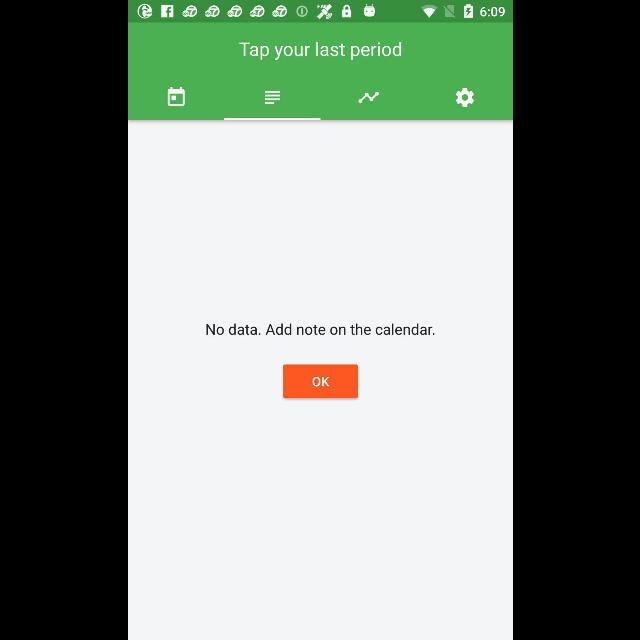icon: (455, 89, 473, 108), (168, 88, 185, 106), (358, 92, 378, 104), (264, 91, 280, 105)
text: (238, 41, 400, 60), (206, 323, 434, 335)
textbutton: (282, 364, 358, 398)
uppertaskbar: (128, 1, 512, 23)
